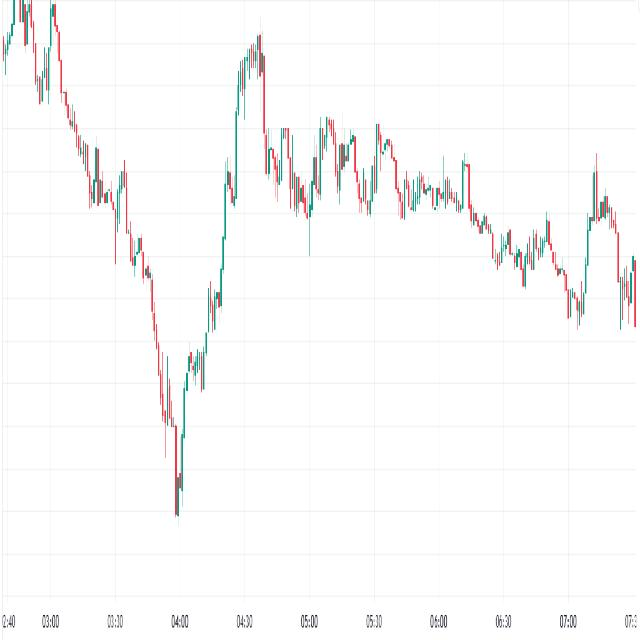Inverse-Head-Shoulders: (51, 8, 251, 529)
